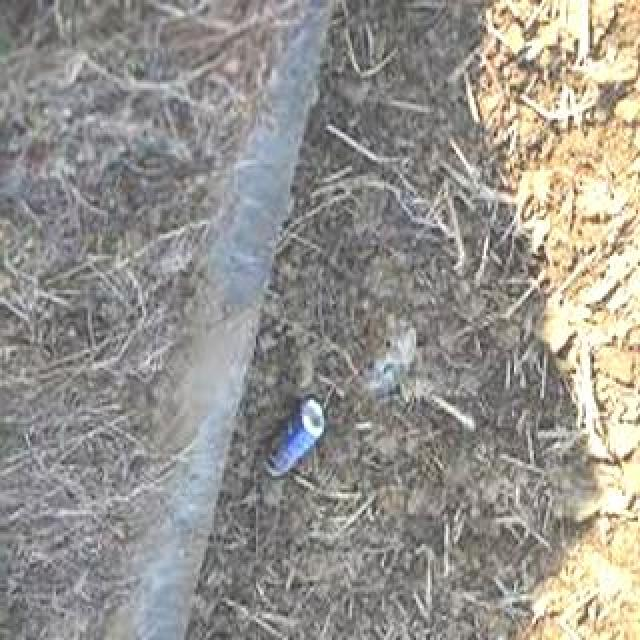Can: (253, 397, 333, 491)
